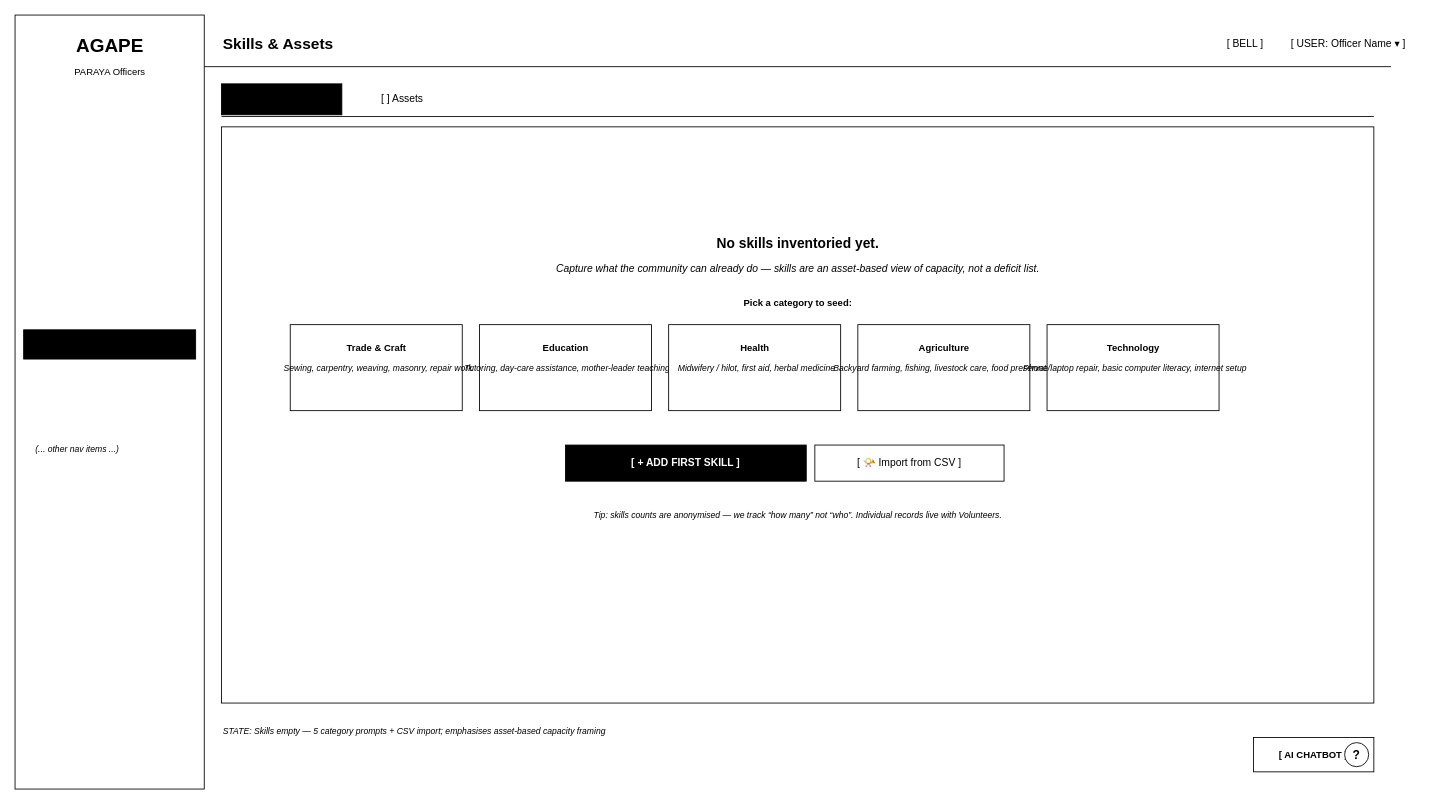
Some shapes in this 1441 by 804 pixel diagram are drawn without their labels. Here are the shapes that lost their labels. From the top down, the centre of each, then its label:
At (281,99): "[x] Skills".
At (109,344): "[x] Skills & Assets".
